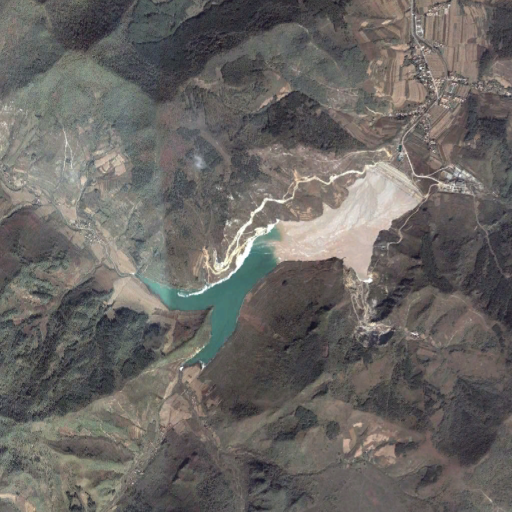tp: (141, 161, 425, 367)
